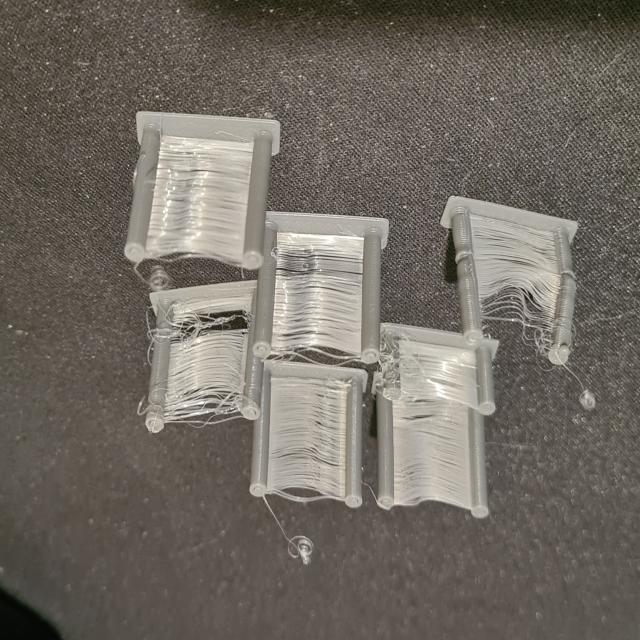Stringing: (480, 272, 558, 328), (480, 226, 556, 276), (285, 412, 343, 468), (284, 244, 357, 288), (170, 378, 233, 418), (174, 306, 232, 348), (276, 530, 316, 566)
